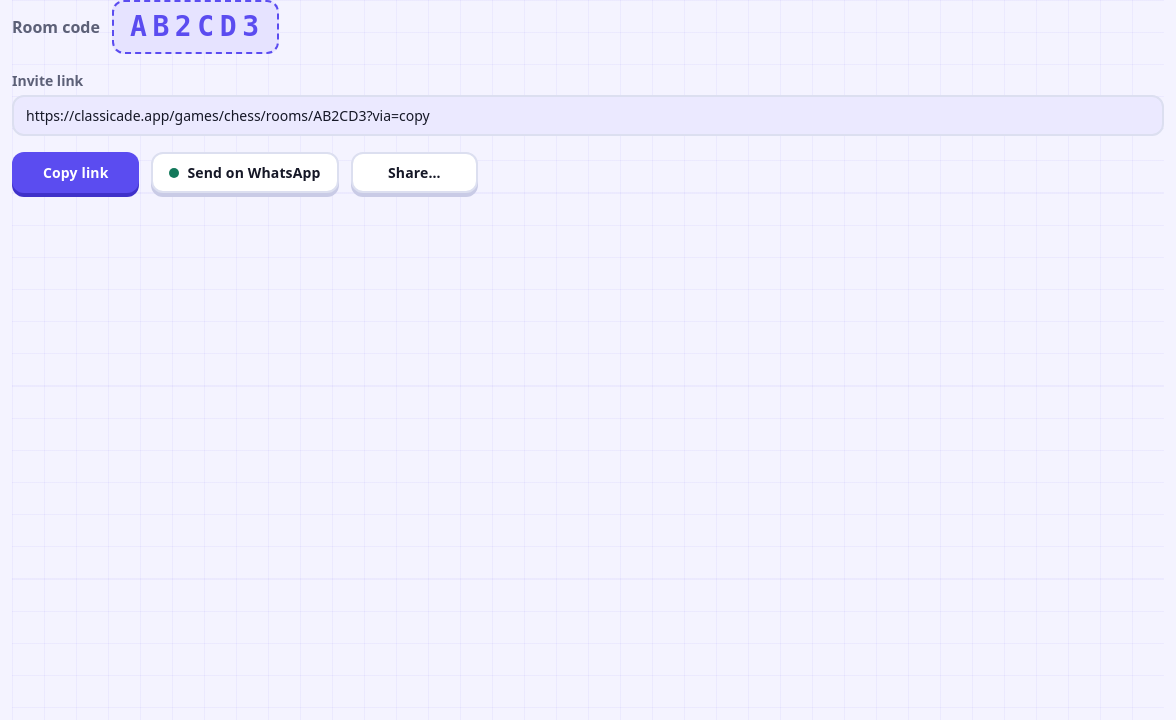
Test: ShareRoom › copies the link when the browser refuses the share sheet for another reason
Click the button "Share…" at (414, 172), box [350,152,478,193]
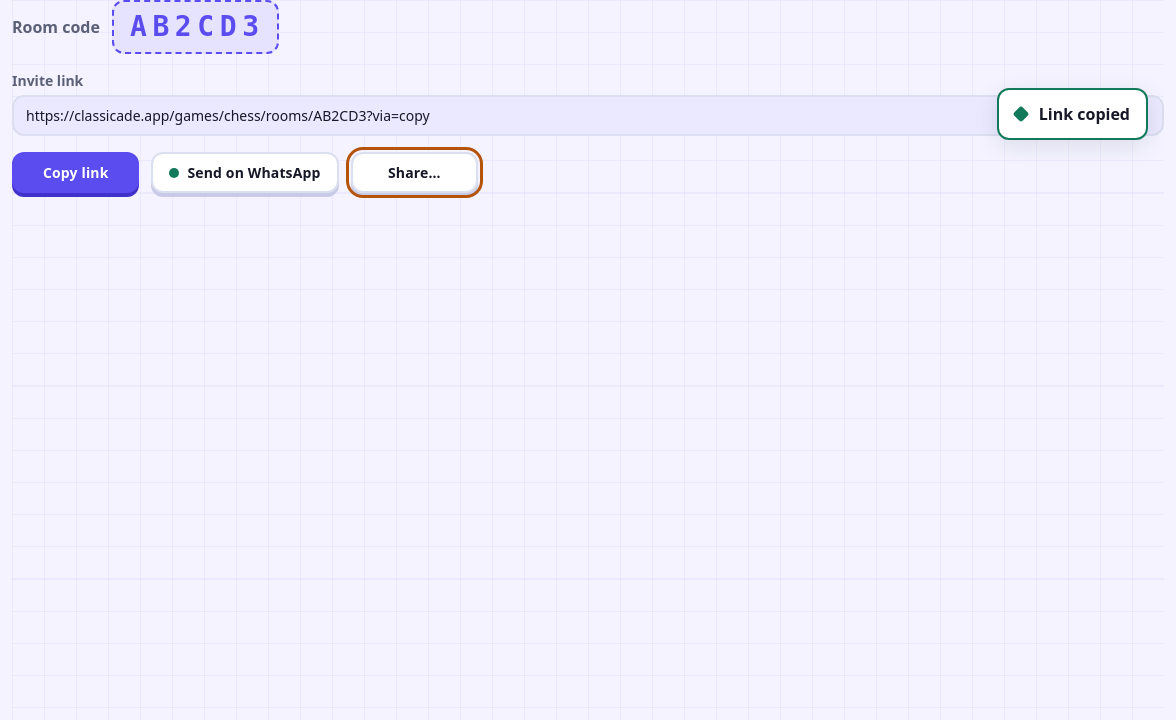
Result: the message reads "Link copied" at [1039,103,1130,125]
